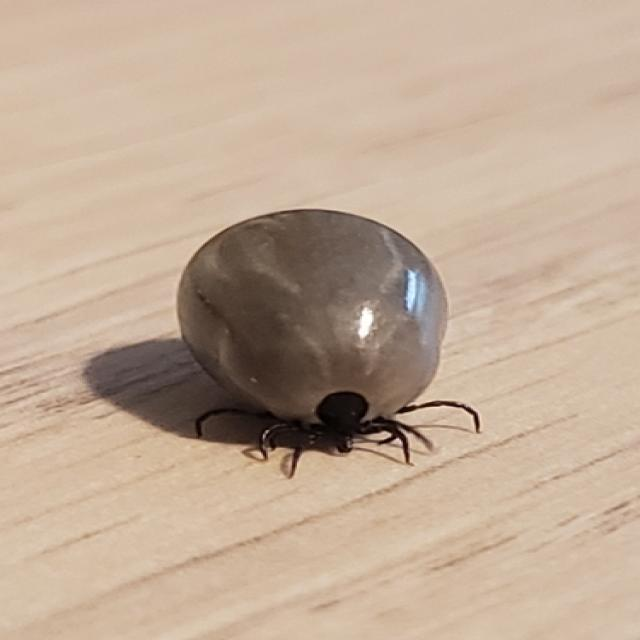Ixodes Ricinus-F-Fed: (174, 209, 481, 480)
